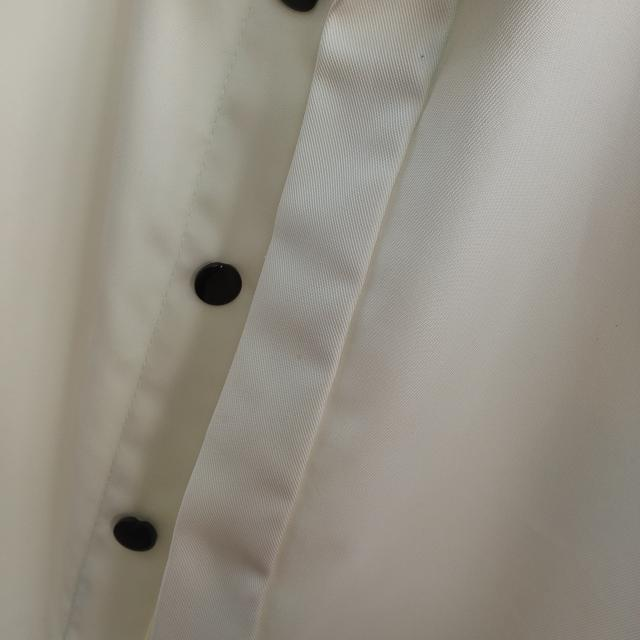education_male_uniform: (5, 0, 588, 616)
